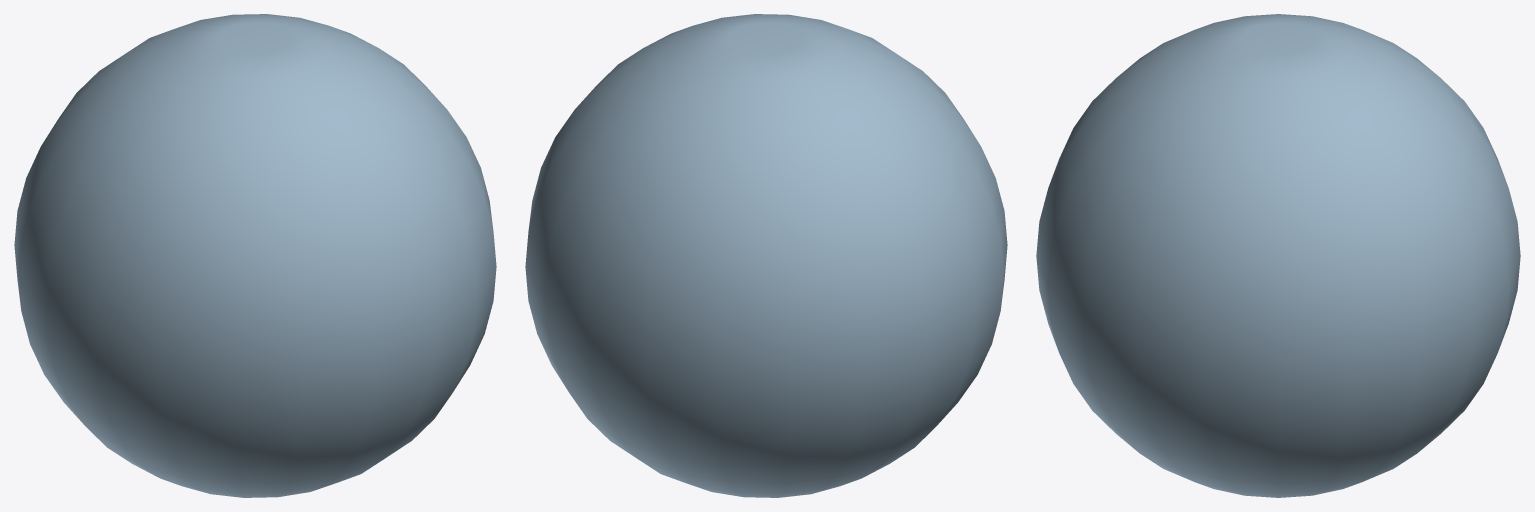
Rendered from ceu.fbx.
3 views of the same model, side by side, from view 1: azimuth 30°, elevation 25°; view 2: azimuth 150°, elevation 25°; view 3: azimuth 270°, elevation 25° (orthographic).
Visible parts, largest first — view 1: pSphere1; view 2: pSphere1; view 3: pSphere1.
Part boxes in pixels (<box>): pSphere1: <box>14,14,496,497</box>; pSphere1: <box>525,14,1007,497</box>; pSphere1: <box>1036,14,1520,497</box>.
Size of the model in its own units: 800 by 795 by 800.
